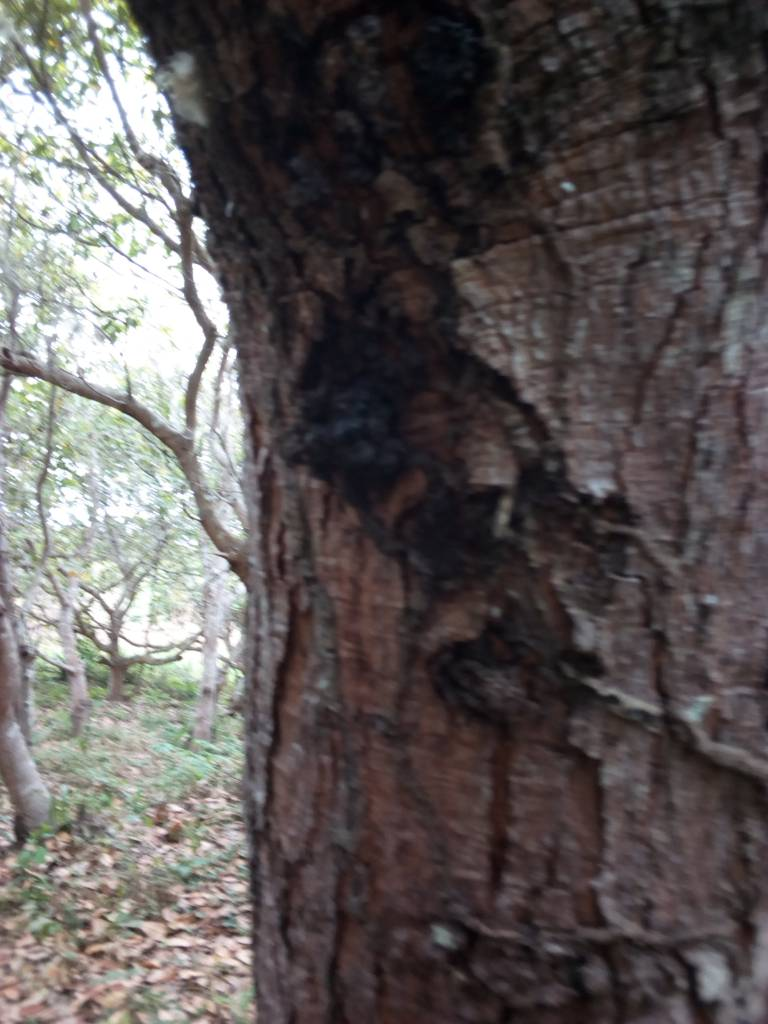Termites: (291, 517, 757, 1024)
